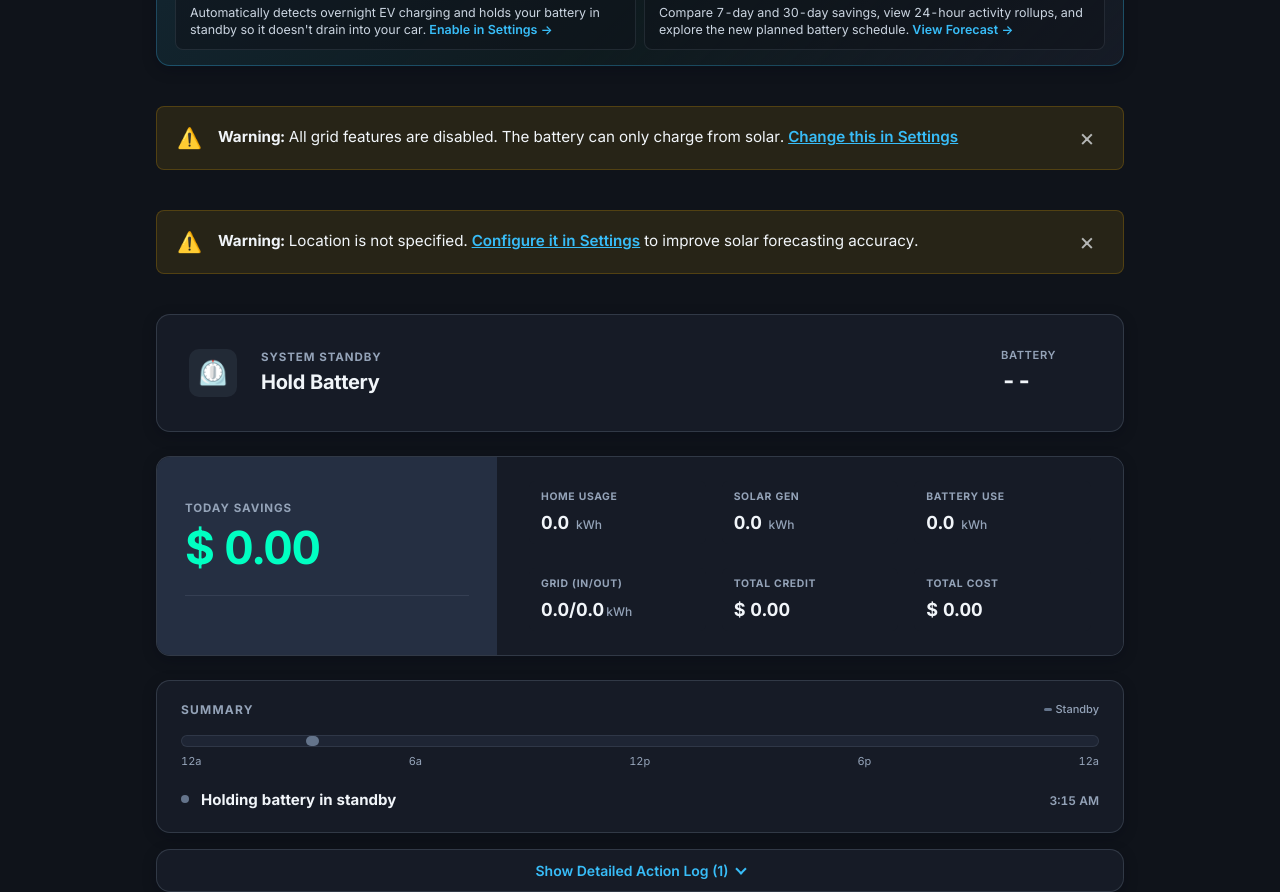
Test: Dashboard › falls back to description when reason is empty (legacy actions)
(page scrolled)
Click the button "Show Detailed Action Log (1)".
click(640, 870)  # box x1=156 y1=848 x2=1124 y2=891
(page scrolled)
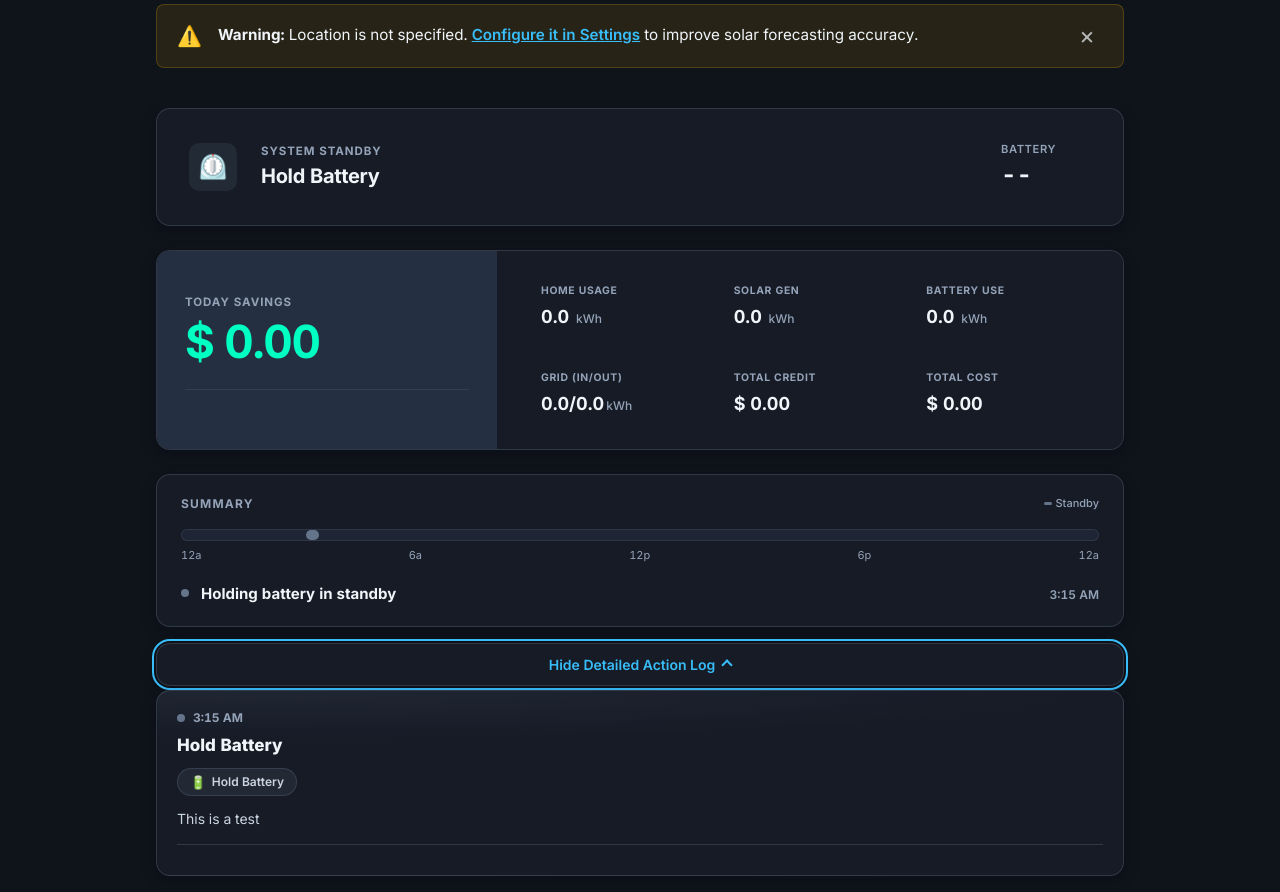
Check: the text "Hold Battery" is shown, box x1=261 y1=160 x2=382 y2=190
Check: the text "This is a test" is shown, box x1=177 y1=810 x2=260 y2=827
